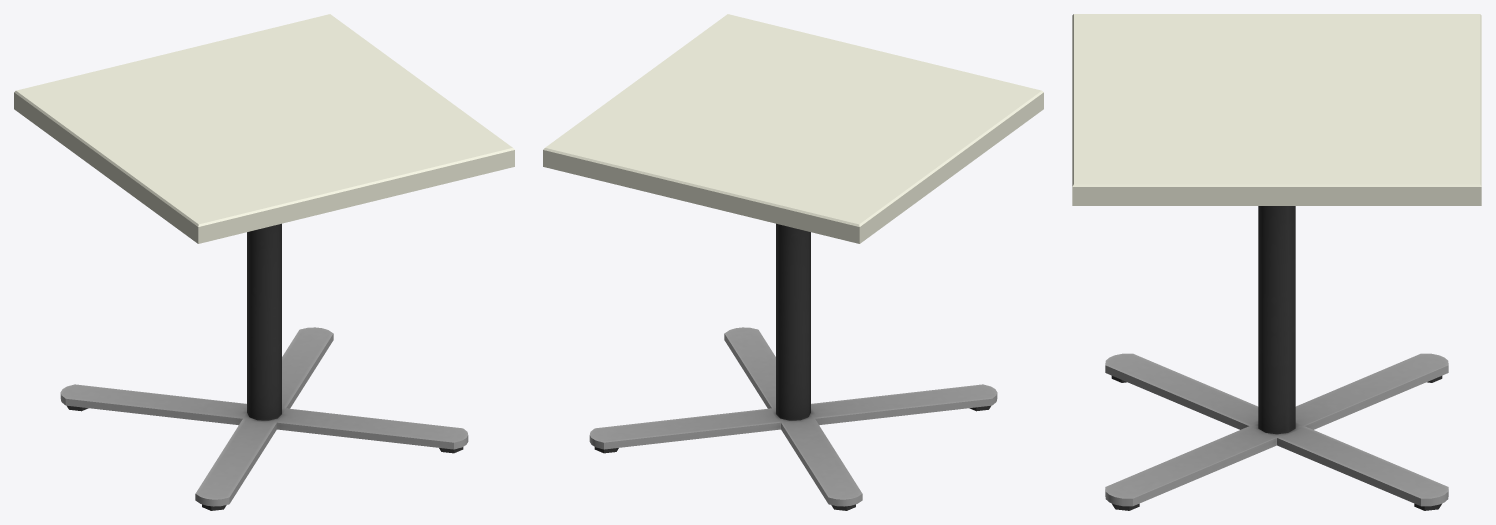
Rendered from Table_White.fbx.
3 views of the same model, side by side, from view 1: azimuth 30°, elevation 25°; view 2: azimuth 150°, elevation 25°; view 3: azimuth 270°, elevation 25° (orthographic). The views are drawn at different scales.
Visible parts, largest first — view 1: Table_White; view 2: Table_White; view 3: Table_White.
Part boxes in pixels (x1,y1,x2,y2): Table_White: (14, 14, 514, 510); Table_White: (543, 14, 1043, 510); Table_White: (1072, 14, 1481, 510).
Size of the model in its own units: 83.32 by 77.37 by 83.96.
